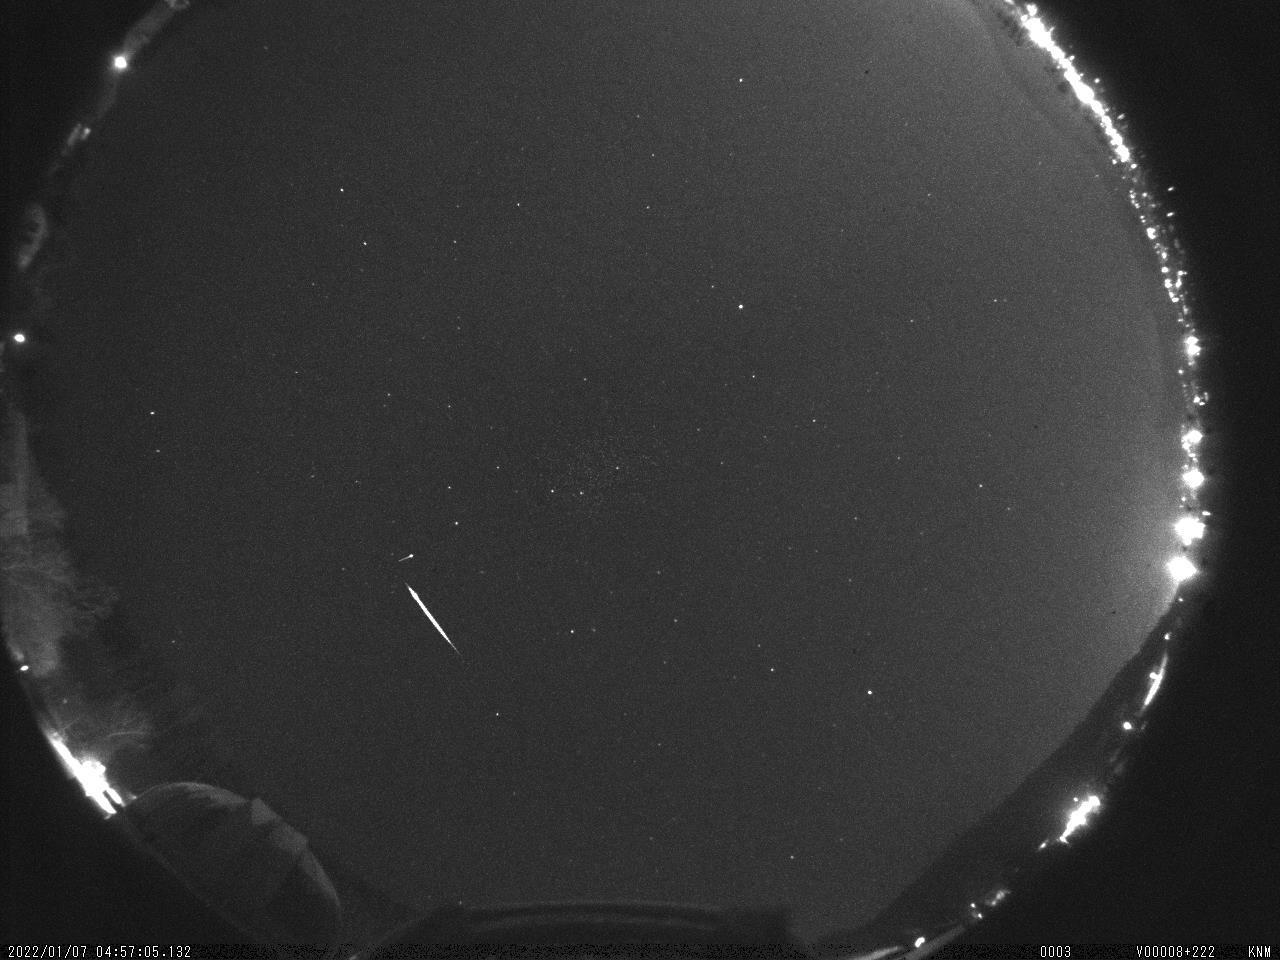Meteor: (404, 580, 462, 656)
